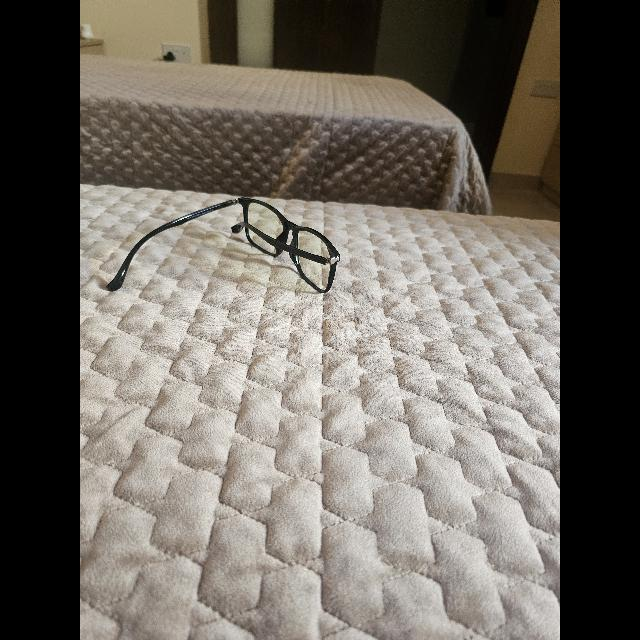glasses: (106, 198, 340, 292)
